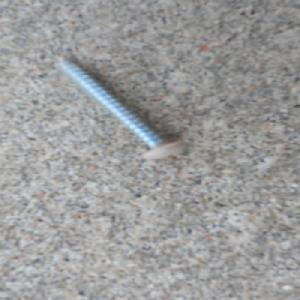Screw: (51, 52, 191, 160)
